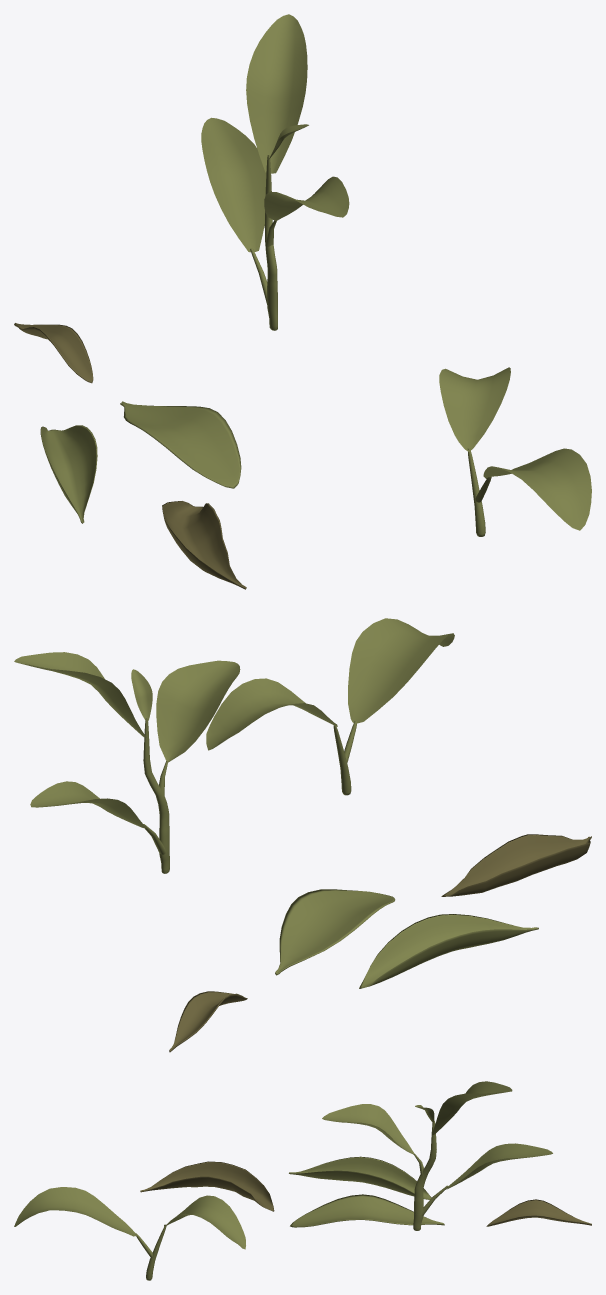
File: TeaLeafs_fbx.fbx
The picture shows the model from 3 angles, top to bottom: view 1: azimuth 30°, elevation 25°; view 2: azimuth 150°, elevation 25°; view 3: azimuth 270°, elevation 25°; orthographic projection. The views are drawn at different scales.
Parts seen in each view (by area): view 1: leafbig, leafbig1, leaf4, leaf2, leaf5, leaf1; view 2: leafbig, leafbig1, leaf4, leaf5, leaf2, leaf1; view 3: leafbig, leafbig1, leaf2, leaf4, leaf5, leaf1.
Part boxes in pixels (bbox=[...]): leafbig: bbox=[201, 14, 349, 330]; leafbig1: bbox=[439, 367, 591, 536]; leaf4: bbox=[120, 401, 241, 488]; leaf2: bbox=[162, 501, 246, 589]; leaf5: bbox=[40, 425, 97, 523]; leaf1: bbox=[14, 323, 93, 383]; leafbig: bbox=[14, 652, 240, 873]; leafbig1: bbox=[206, 618, 454, 795]; leaf4: bbox=[275, 889, 395, 975]; leaf5: bbox=[359, 914, 538, 988]; leaf2: bbox=[441, 834, 591, 896]; leaf1: bbox=[169, 991, 247, 1052]; leafbig: bbox=[322, 1081, 552, 1230]; leafbig1: bbox=[14, 1187, 245, 1280]; leaf2: bbox=[140, 1161, 274, 1211]; leaf4: bbox=[290, 1194, 444, 1227]; leaf5: bbox=[289, 1156, 431, 1199]; leaf1: bbox=[486, 1199, 591, 1226].
Bounding box in the file's own units: 1.94 × 1.53 × 3.76.
